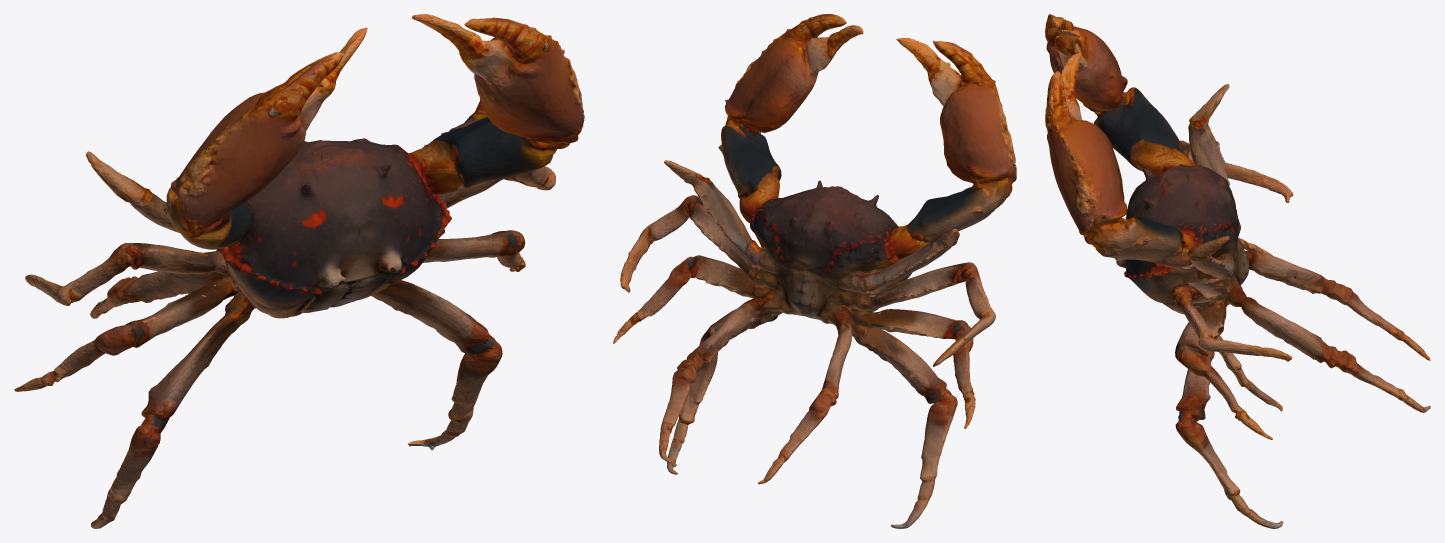
Rendered from insect_crab.glb.
3 views of the same model, side by side, from view 1: azimuth 30°, elevation 25°; view 2: azimuth 150°, elevation 25°; view 3: azimuth 270°, elevation 25° (orthographic). The views are drawn at different scales.
Parts seen in each view (by area): view 1: textured_mesh.obj; view 2: textured_mesh.obj; view 3: textured_mesh.obj.
Part boxes in pixels (left/top/right/bottom): textured_mesh.obj: left=14, top=14, right=584, bottom=528; textured_mesh.obj: left=613, top=14, right=1016, bottom=528; textured_mesh.obj: left=1045, top=14, right=1430, bottom=528.
Size of the model in its own units: 1.85 by 1.98 by 1.63.
1 material, 1 textured.
